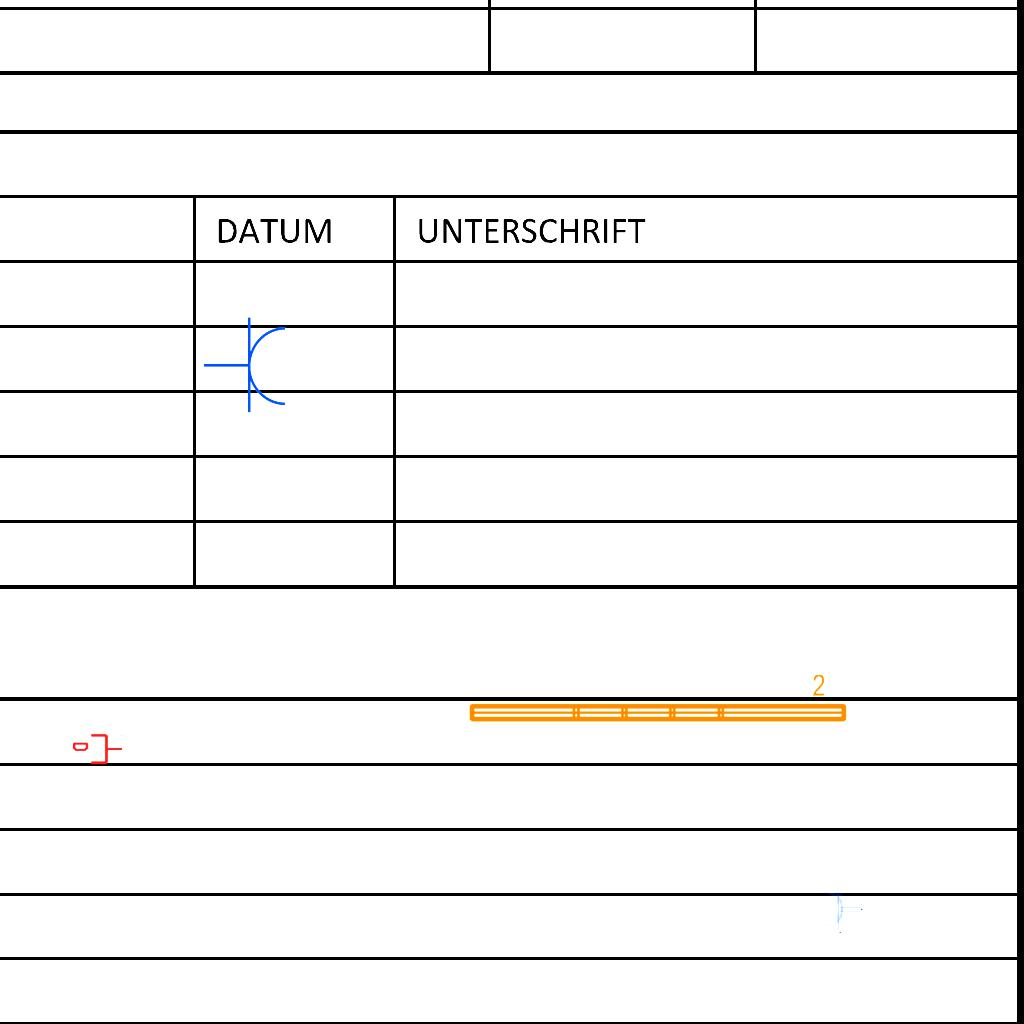Ambulanz_Pendelleuchte_LED: (464, 672, 851, 728)
Datenanschluss_einfach: (73, 732, 123, 766)
Schukosteckdose_einfach: (203, 316, 290, 416), (820, 884, 863, 934)
